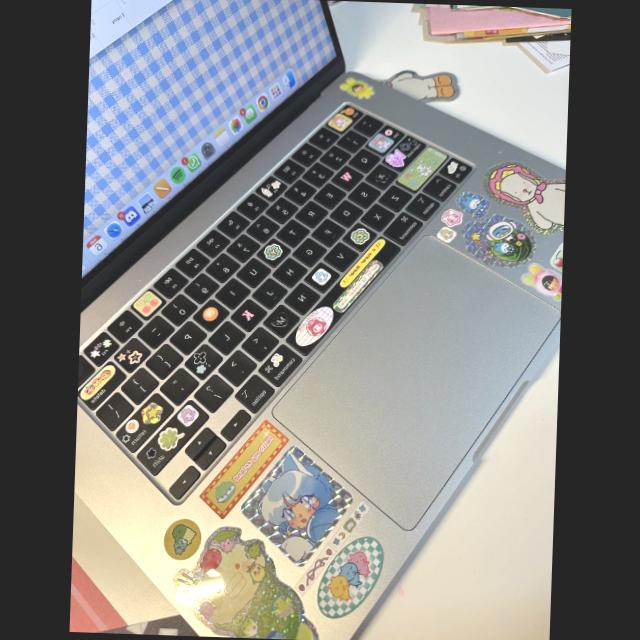laptop: (70, 18, 562, 626)
